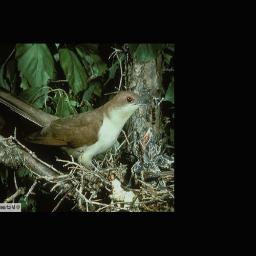Cuckoo: (0, 71, 153, 168)
